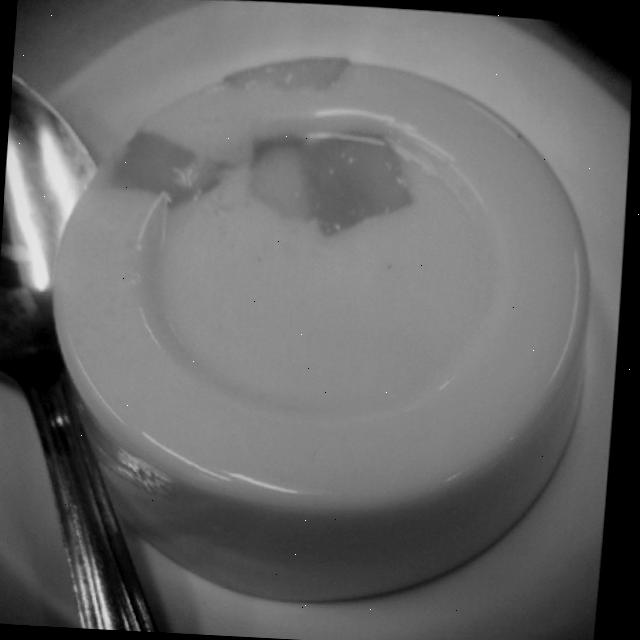蛋糕甜品: (0, 7, 631, 640)
